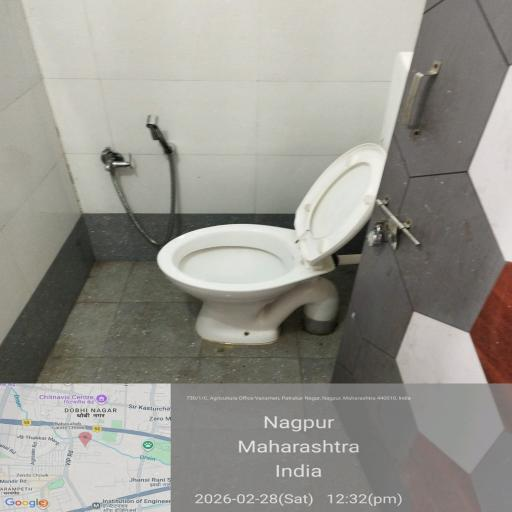clean_floor: (13, 0, 444, 201), (39, 356, 512, 511)
clean_western: (104, 130, 360, 367)
